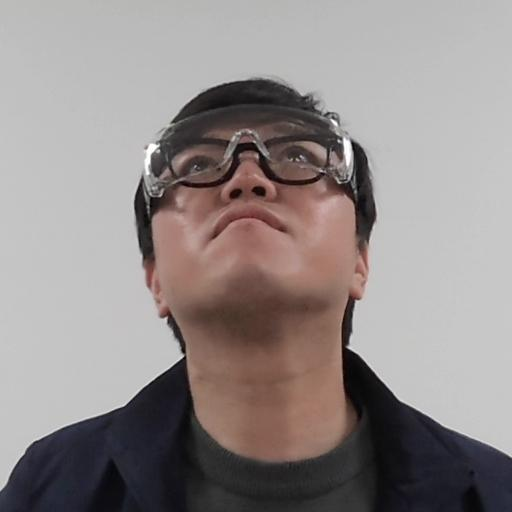glasses: (126, 90, 391, 367)
